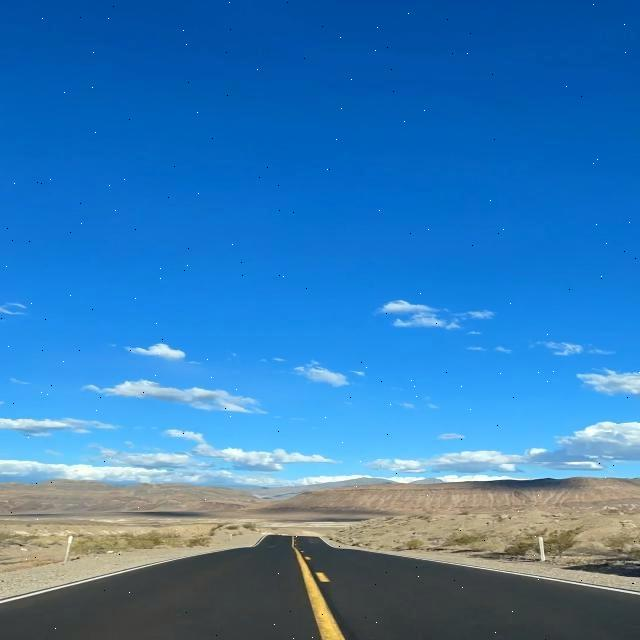lane: (291, 538, 346, 639), (315, 571, 330, 582)
road: (1, 535, 640, 639)
